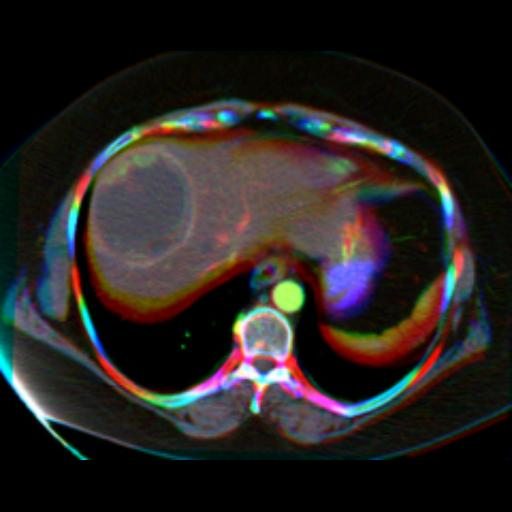Cyst: (93, 154, 189, 268)
